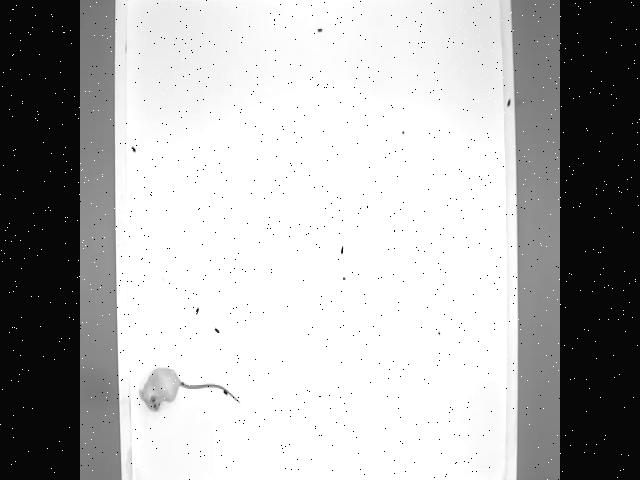Tikus: (138, 354, 240, 416)
